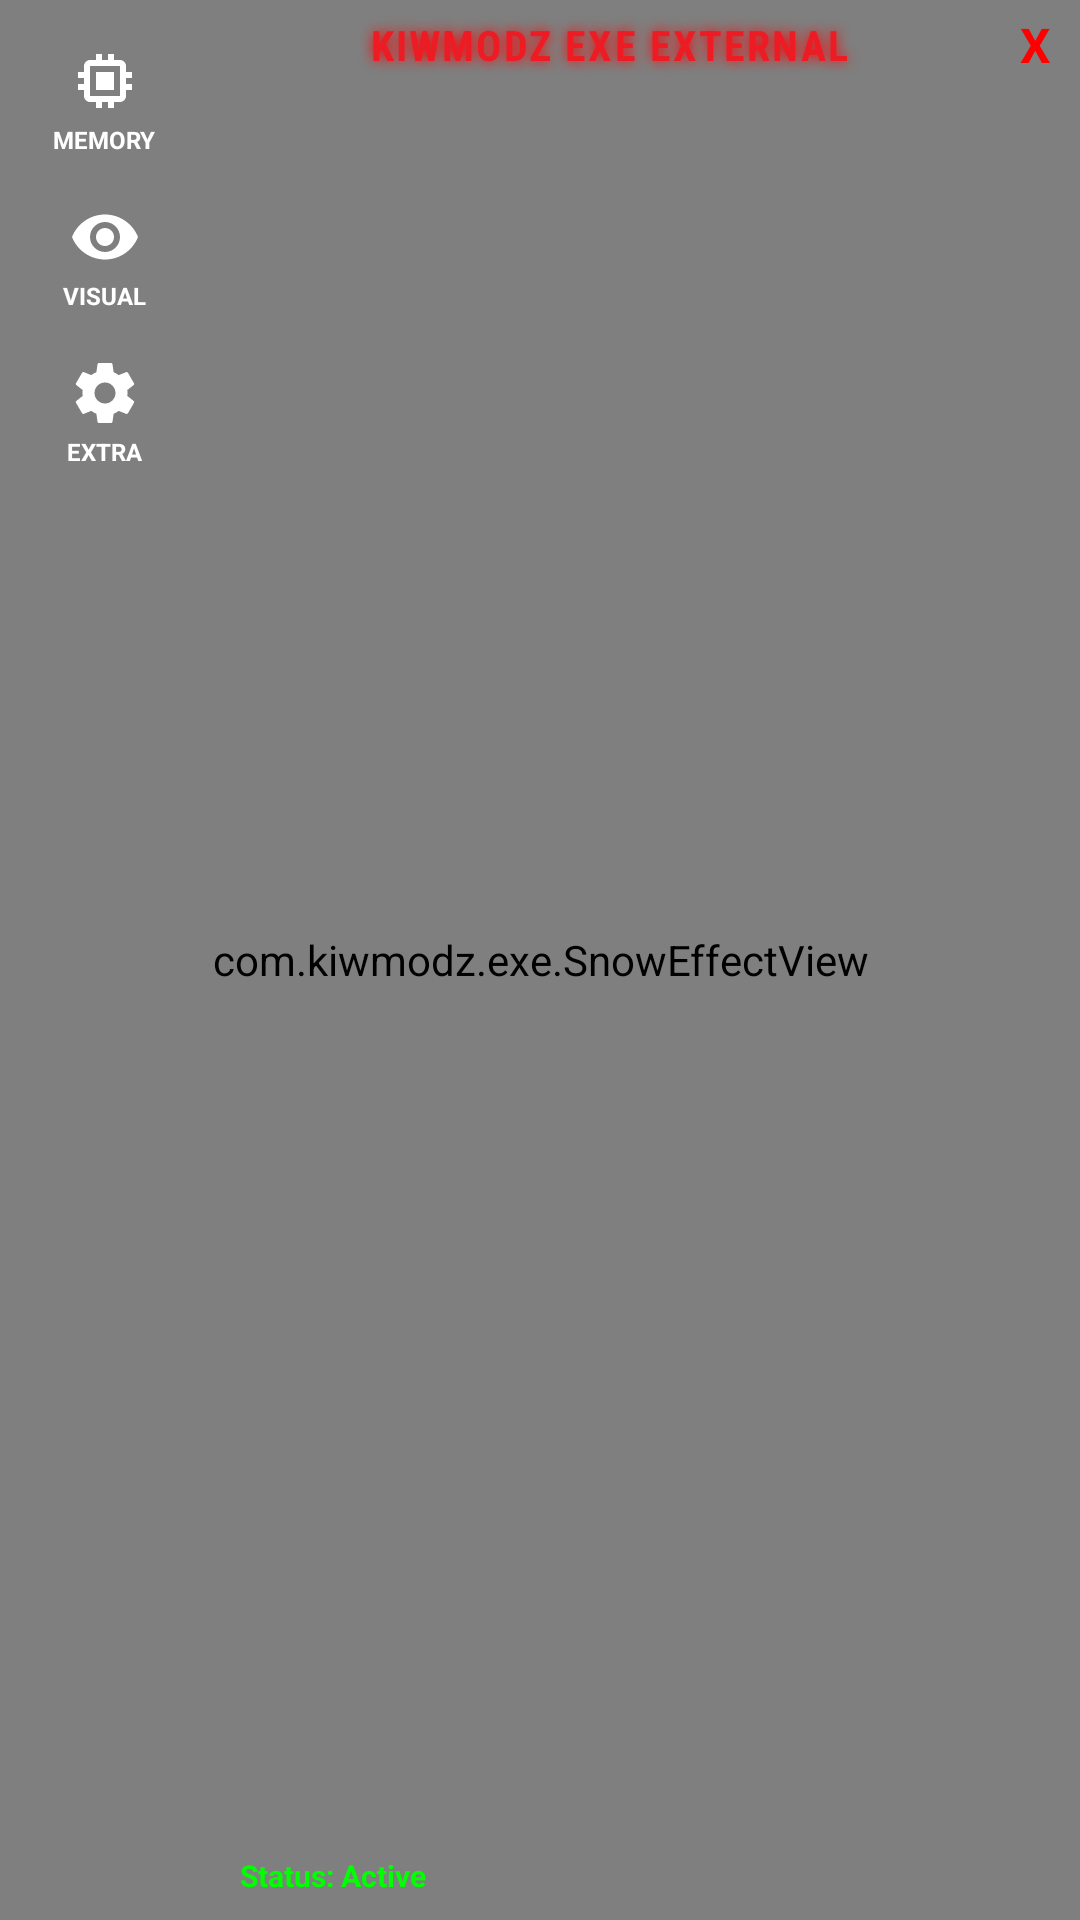

Icons on this 1080x1920 Android screen, each with the point to tap as (x,y):
eye: (105,237)
